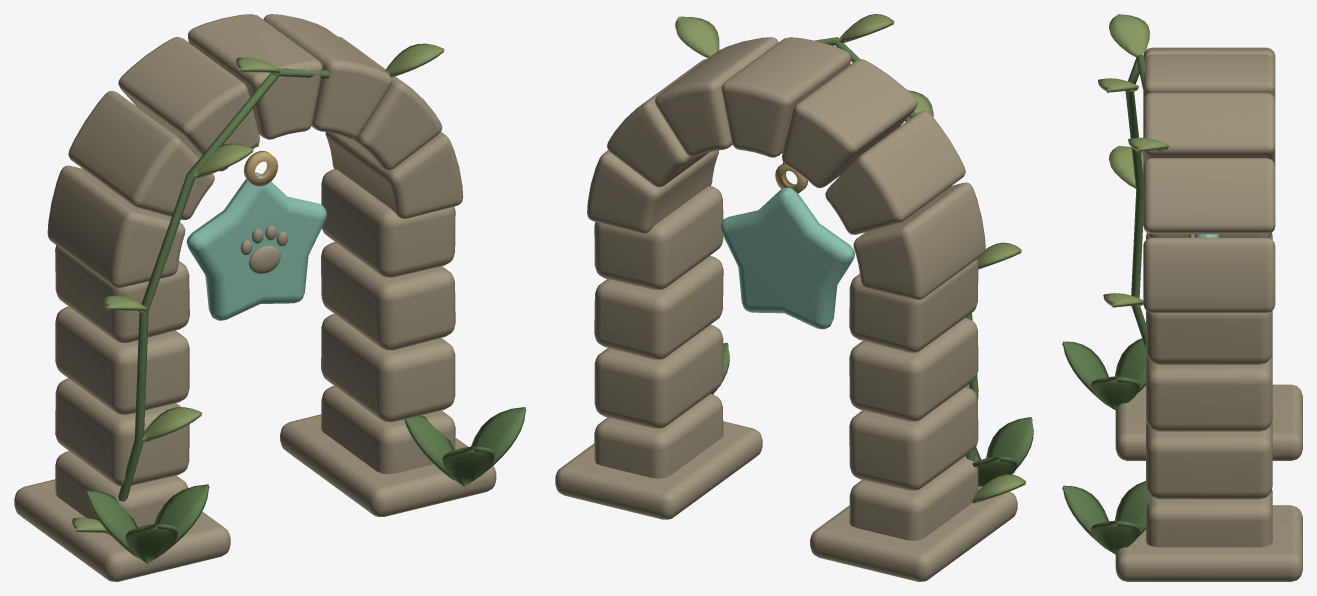
Rendered from star_shrine_atelier.glb.
The picture shows the model from 3 angles, left to right: view 1: azimuth 30°, elevation 25°; view 2: azimuth 150°, elevation 25°; view 3: azimuth 270°, elevation 25°; orthographic projection. The views are drawn at different scales.
Visible parts, largest first — view 1: star_shrine_atelier__TaggedPainted_Shrine_Matte, star_shrine_atelier__Painted_Shrine_Glaze, star_shrine_atelier__Painted_Shrine_Metal; view 2: star_shrine_atelier__TaggedPainted_Shrine_Matte, star_shrine_atelier__Painted_Shrine_Glaze; view 3: star_shrine_atelier__TaggedPainted_Shrine_Matte.
Part boxes in pixels (box(x1,y1,x2,y2)): star_shrine_atelier__TaggedPainted_Shrine_Matte: box(14, 14, 526, 581); star_shrine_atelier__Painted_Shrine_Glaze: box(186, 172, 326, 320); star_shrine_atelier__Painted_Shrine_Metal: box(243, 144, 278, 186); star_shrine_atelier__TaggedPainted_Shrine_Matte: box(555, 14, 1033, 581); star_shrine_atelier__Painted_Shrine_Glaze: box(720, 187, 854, 329); star_shrine_atelier__TaggedPainted_Shrine_Matte: box(1062, 14, 1302, 581).
Bounding box in the file's own units: 1.7 × 1.83 × 0.8752.
